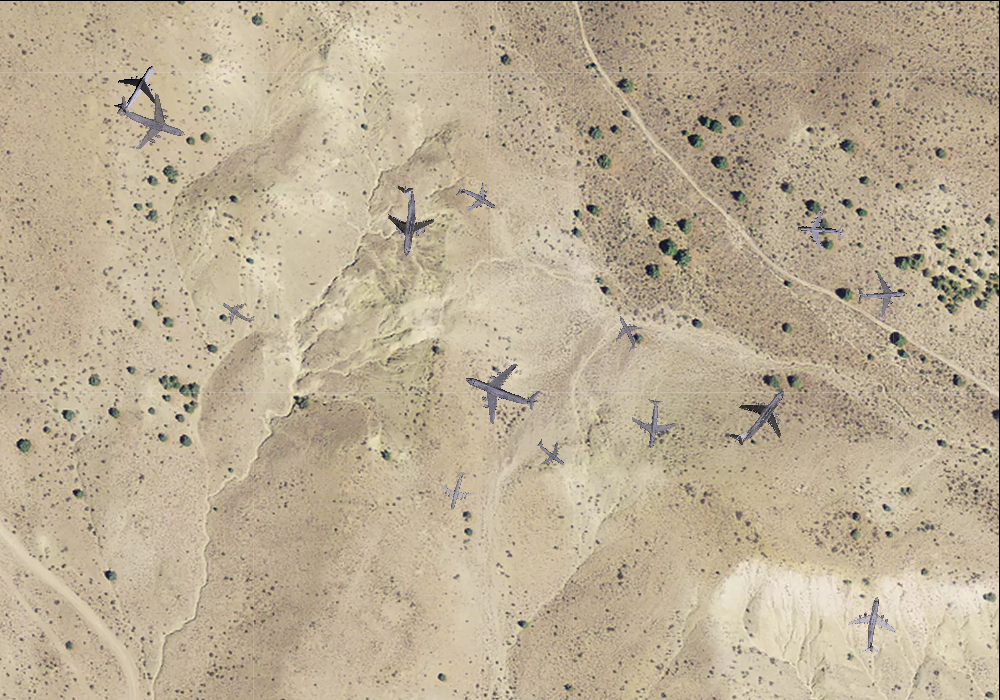plane: (453, 343, 549, 438), (714, 370, 805, 463), (105, 75, 196, 163), (100, 51, 171, 124), (372, 182, 440, 258), (843, 593, 905, 658), (448, 171, 503, 225), (627, 396, 680, 451), (856, 269, 908, 319), (433, 466, 481, 515), (795, 206, 845, 253), (603, 309, 650, 357), (528, 430, 574, 476), (214, 289, 260, 335)
